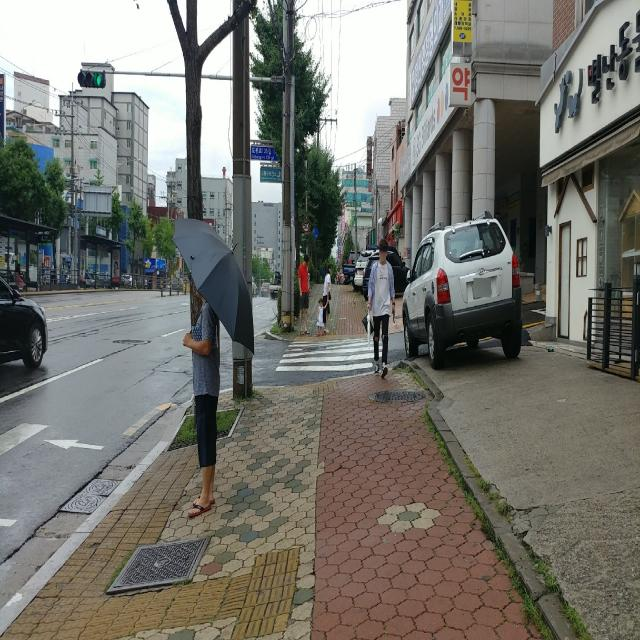횡단보도: (274, 338, 383, 372)
